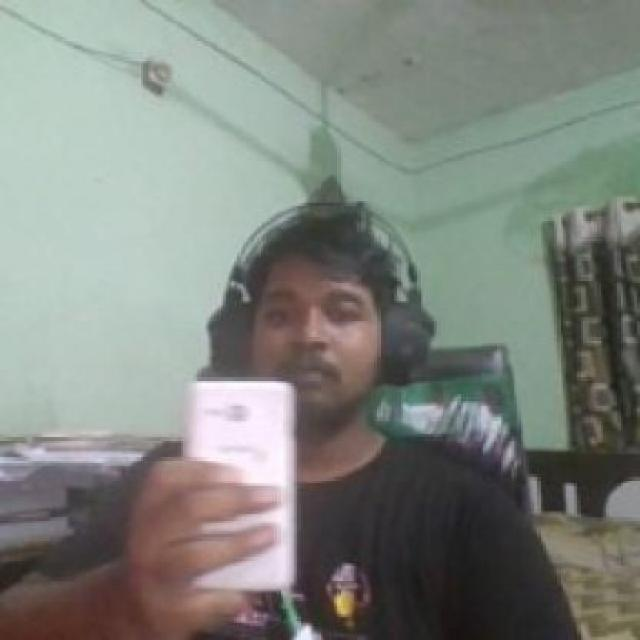Phone: (188, 377, 298, 595)
